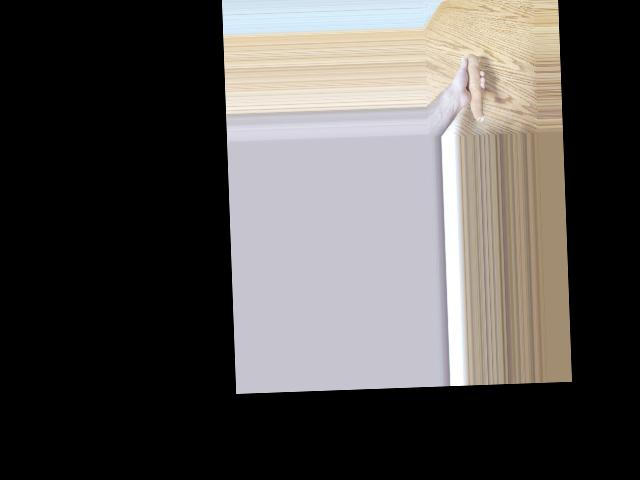sweet_potato: (460, 56, 483, 123)
